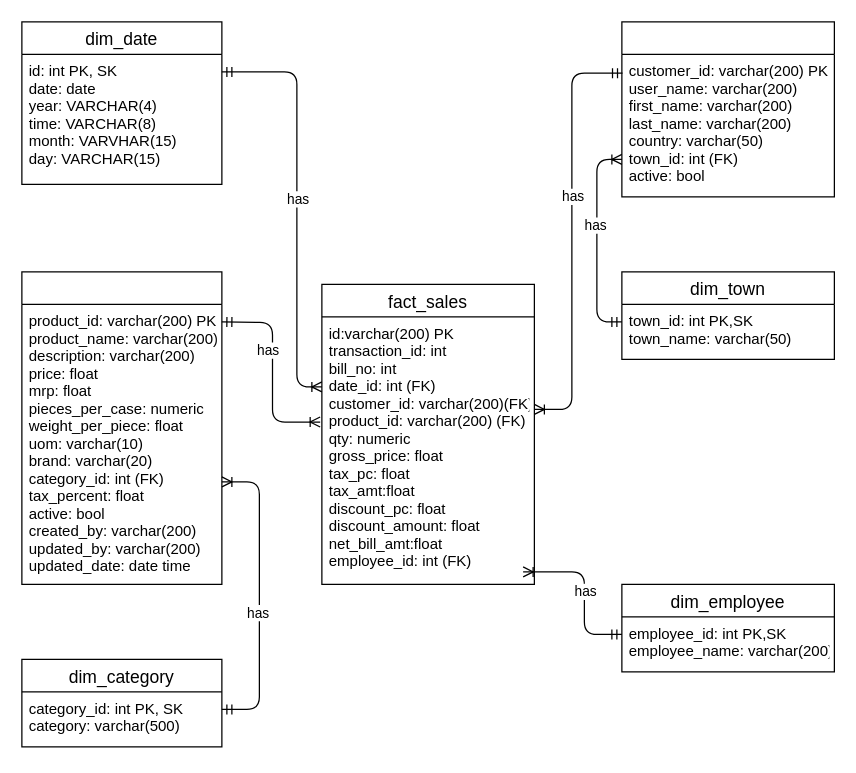
Some shapes in this 856 by 773 pixel diagram are drawn without their labels. The box of each missing label's shape, as (x1, y1, x2, y2) in pixels:
dim_customer: (621, 21, 834, 197)
dim_product: (21, 271, 222, 584)
